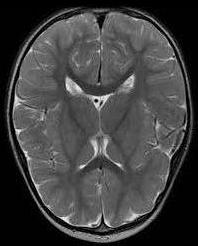Normal_Brain: (1, 1, 198, 244)
